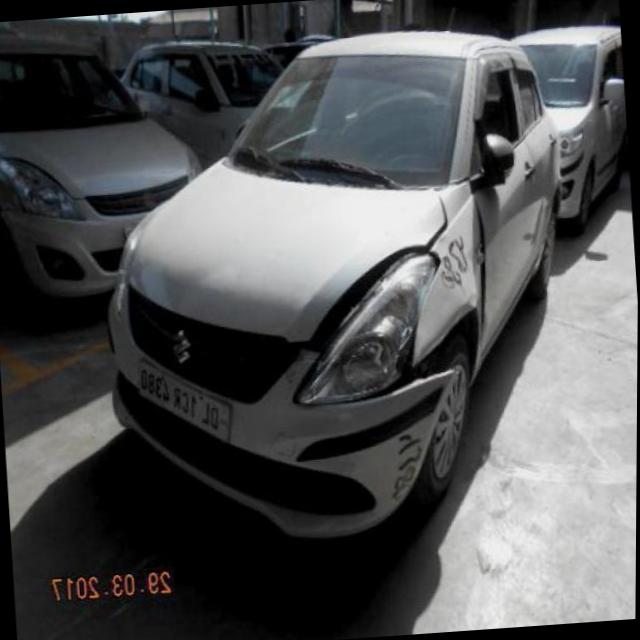Car-Damage: (281, 196, 463, 374), (282, 289, 483, 416), (466, 192, 502, 344), (161, 262, 215, 316)
